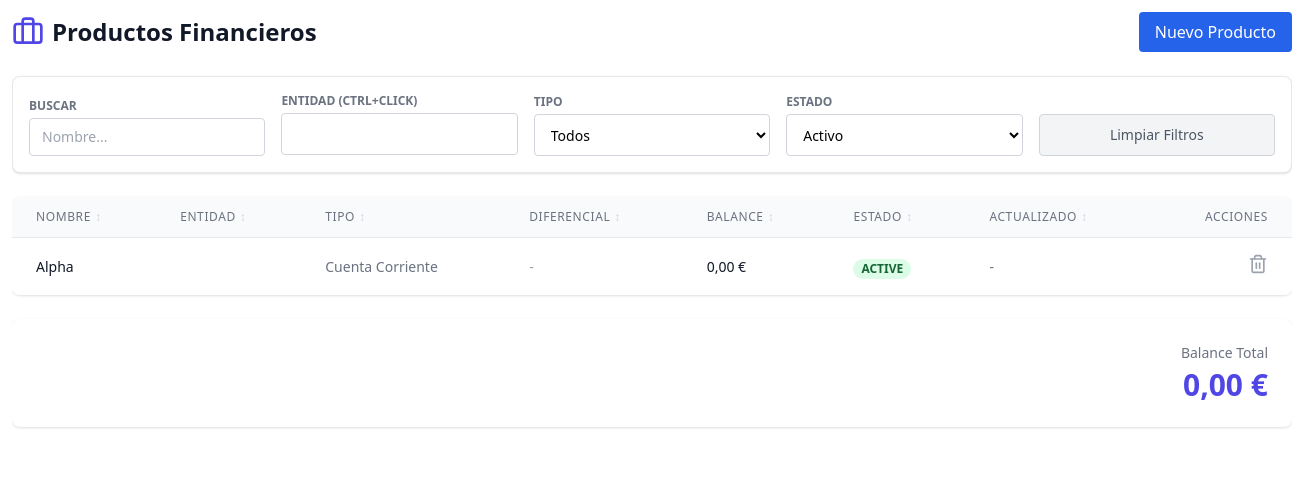
Test: ProductsPage › clears filters
The width and height of the screenshot is (1292, 503).
Expected: the text "Alpha" is shown, [12,238,156,295]
# Aplicar filtro
Type "Alpha" into the field with placeholder "Nombre..." at (147, 137), box [29,118,265,156]
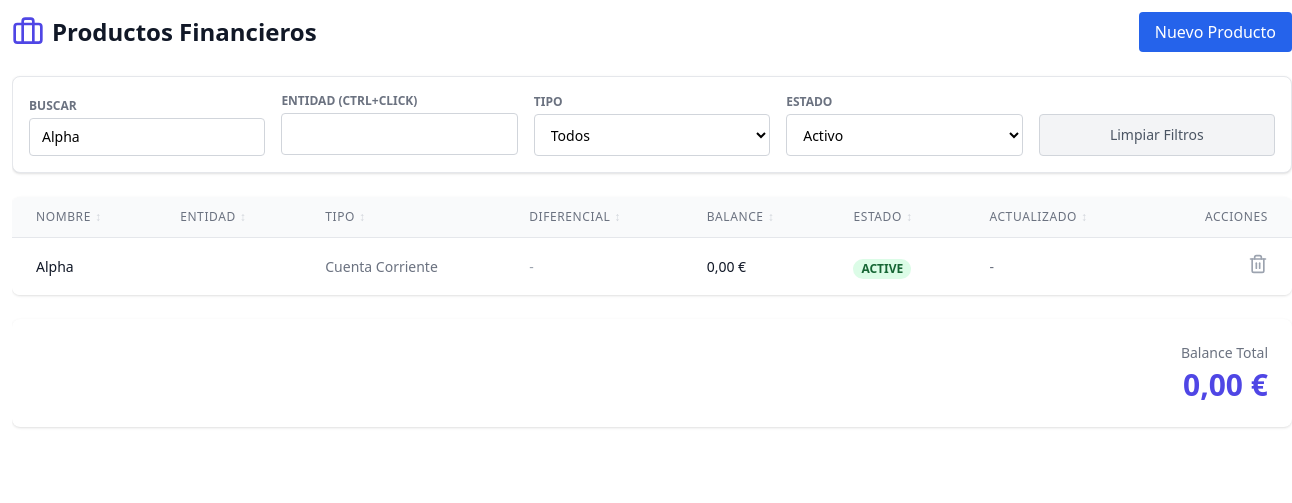
Expected: the text "Beta" is not shown
Click the button "Limpiar Filtros" at (1157, 135), box [1039,114,1275,156]
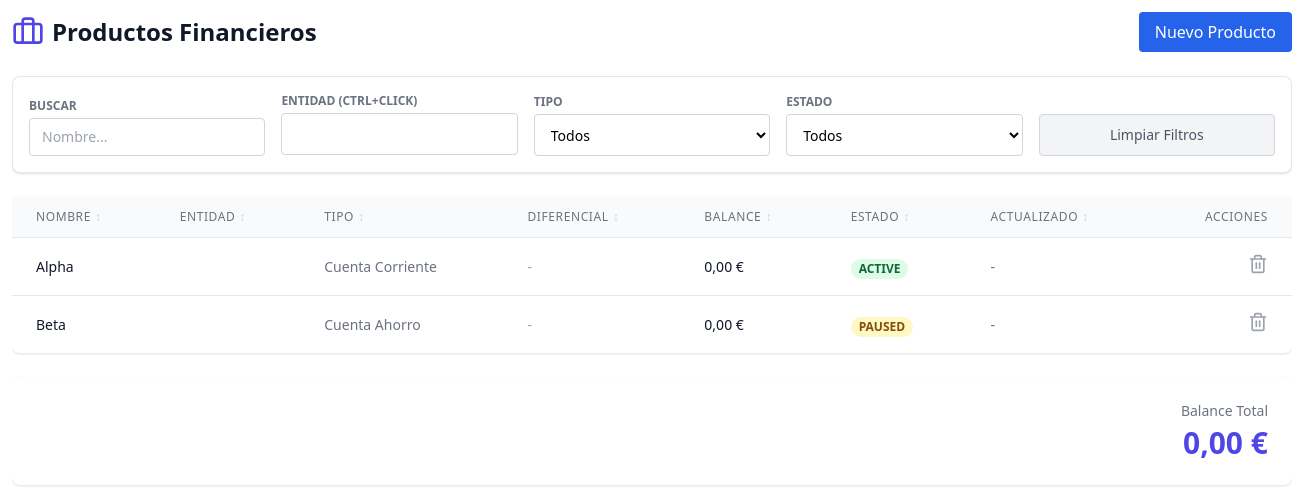
Expected: the text "Beta" is shown, [12,296,156,353]
